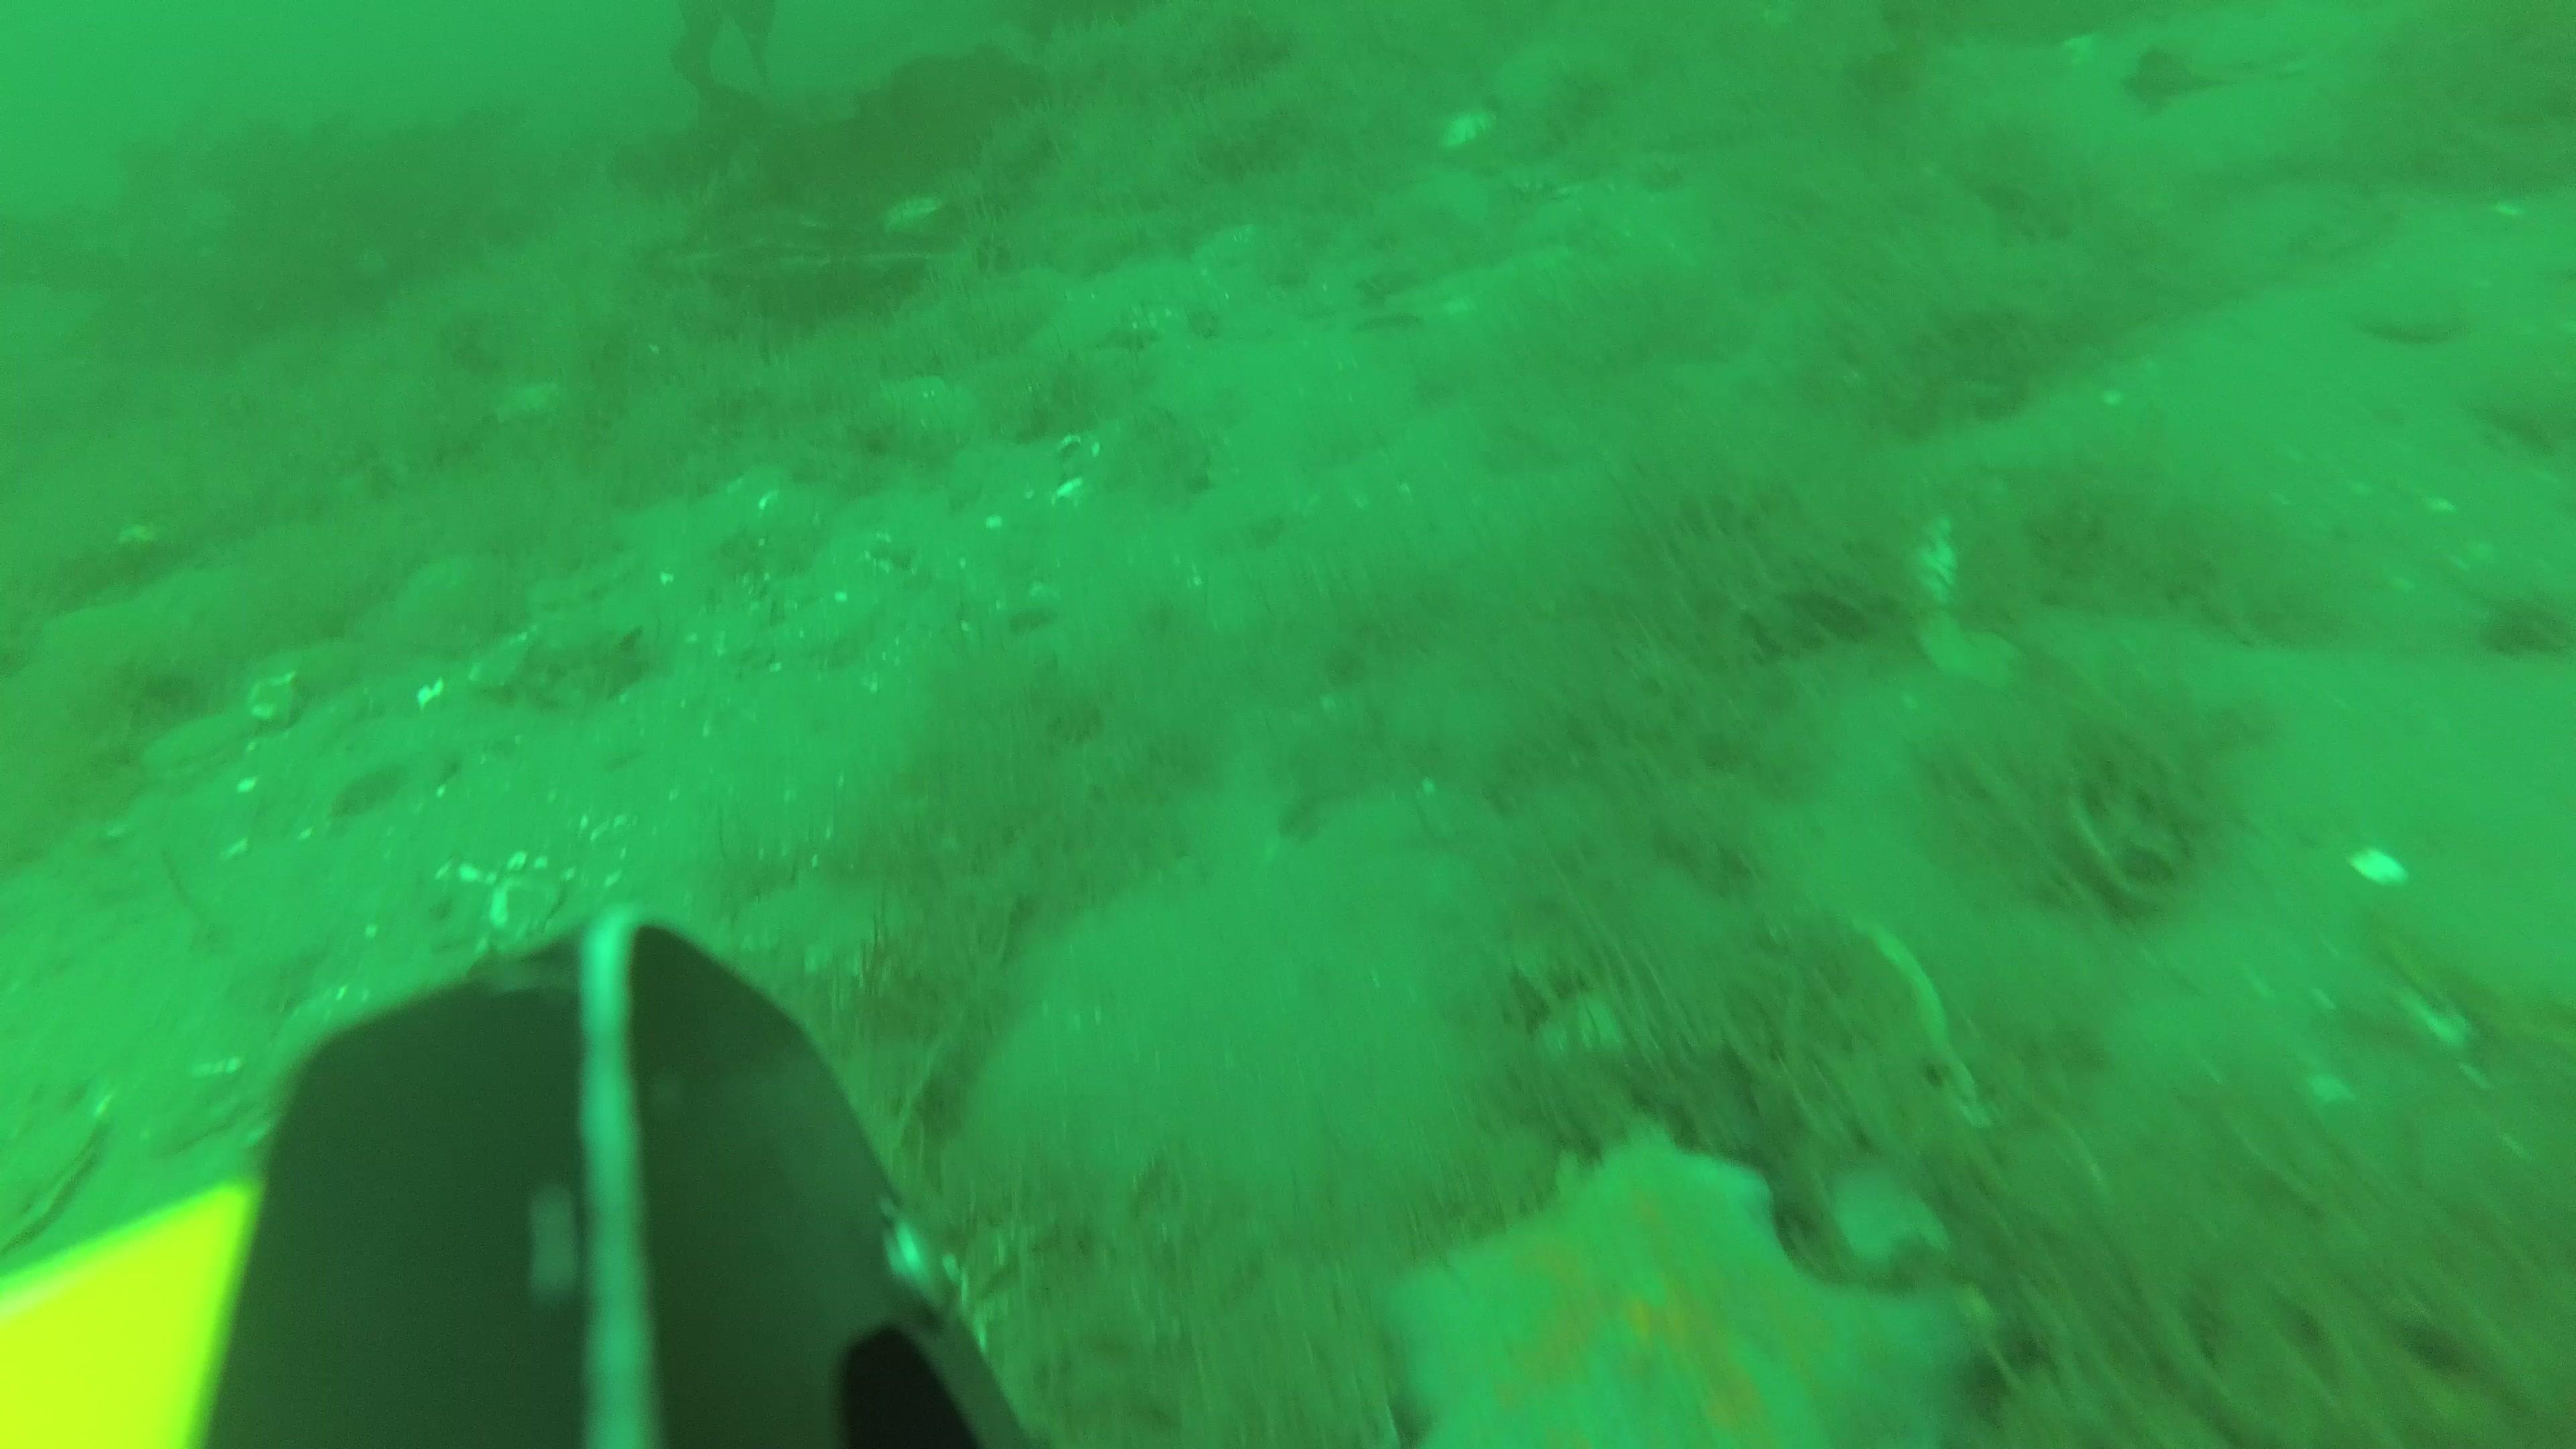scallop: (0, 1115, 113, 1251), (157, 1063, 257, 1152), (142, 713, 253, 782)
starfish: (1380, 1141, 1969, 1449)
